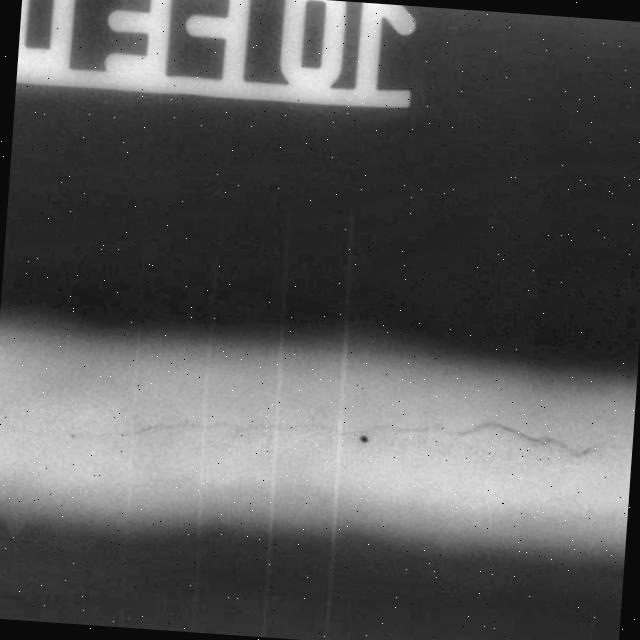Crack: (0, 360, 631, 508)
Pore: (352, 422, 378, 453)
